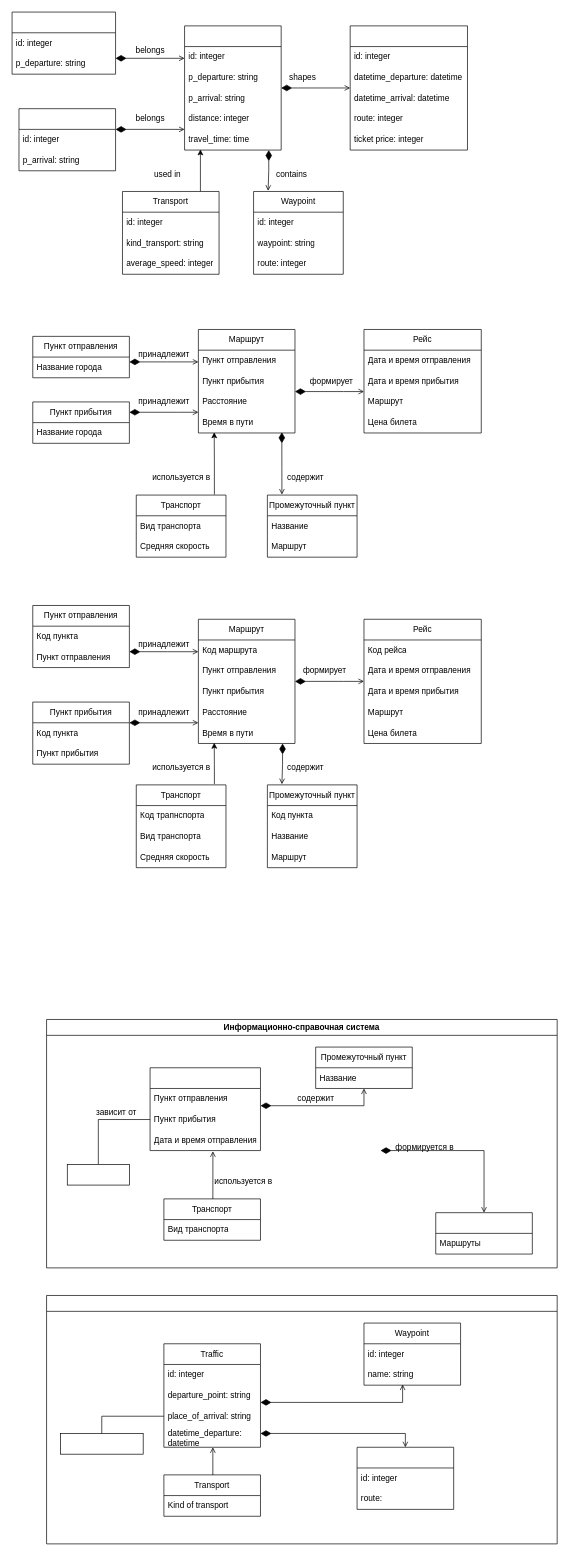
Image size: 569x1556. Some labels were removed from this diagram. The shapes that lost their labels are listed below. From the top down, each one's box as (x1, y1, x2, y2) in pixels, then its label:
(11, 11, 116, 74): Point_of_departure
(184, 25, 281, 150): Route
(349, 25, 467, 150): Flight
(18, 108, 116, 171): Point_of arrival
(149, 1067, 260, 1151): Движение транспорта
(67, 1164, 129, 1185): Цена
(435, 1212, 532, 1254): Результат
(46, 1295, 557, 1544): Information and reference system
(60, 1433, 143, 1454): Price
(356, 1447, 454, 1509): Result
